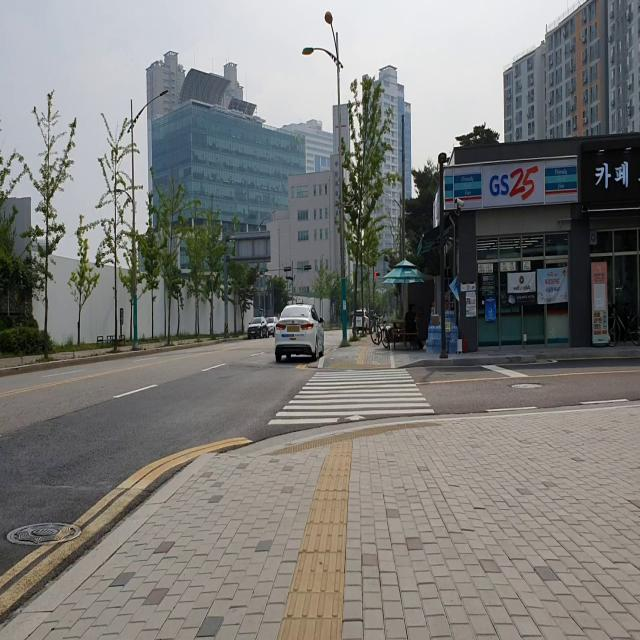횡단보도: (267, 367, 435, 426)
